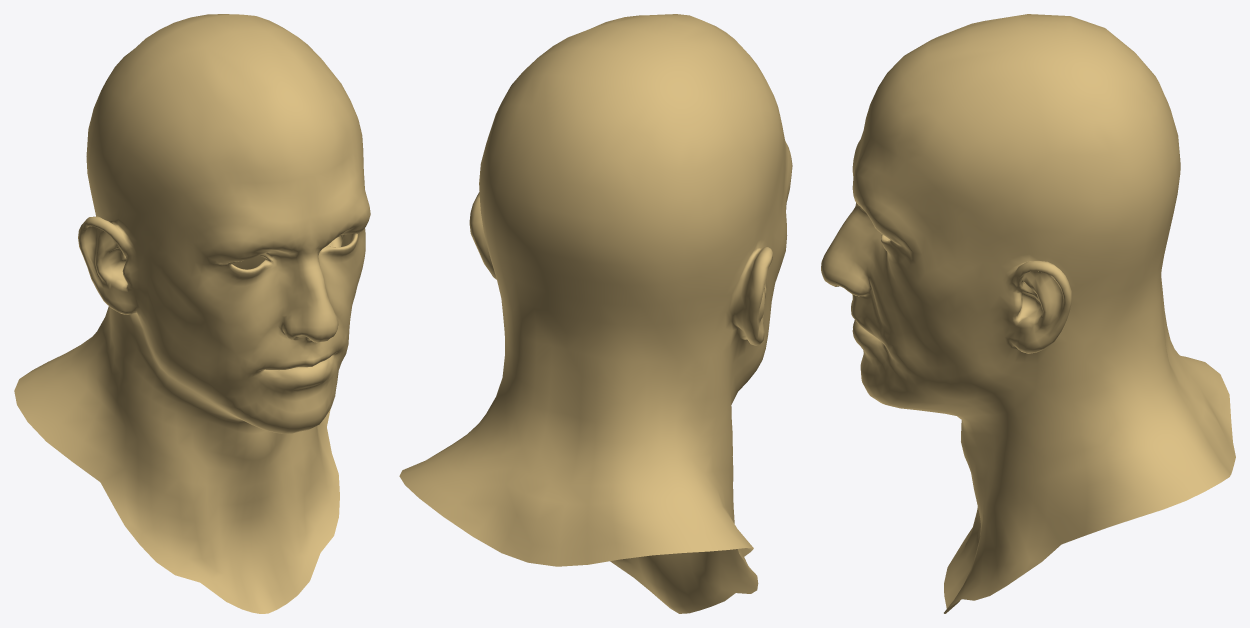
The model's file is head.FBX.
The picture shows the model from 3 angles, left to right: view 1: azimuth 30°, elevation 25°; view 2: azimuth 150°, elevation 25°; view 3: azimuth 270°, elevation 25°; orthographic projection. The views are drawn at different scales.
Parts seen in each view (by area): view 1: challenger_head; view 2: challenger_head; view 3: challenger_head.
Part boxes in pixels (box(x1,y1,x2,y2)): challenger_head: box(14, 14, 370, 613); challenger_head: box(399, 14, 792, 613); challenger_head: box(821, 14, 1235, 613).
Bounding box in the file's own units: 20.43 × 36.07 × 23.22.
